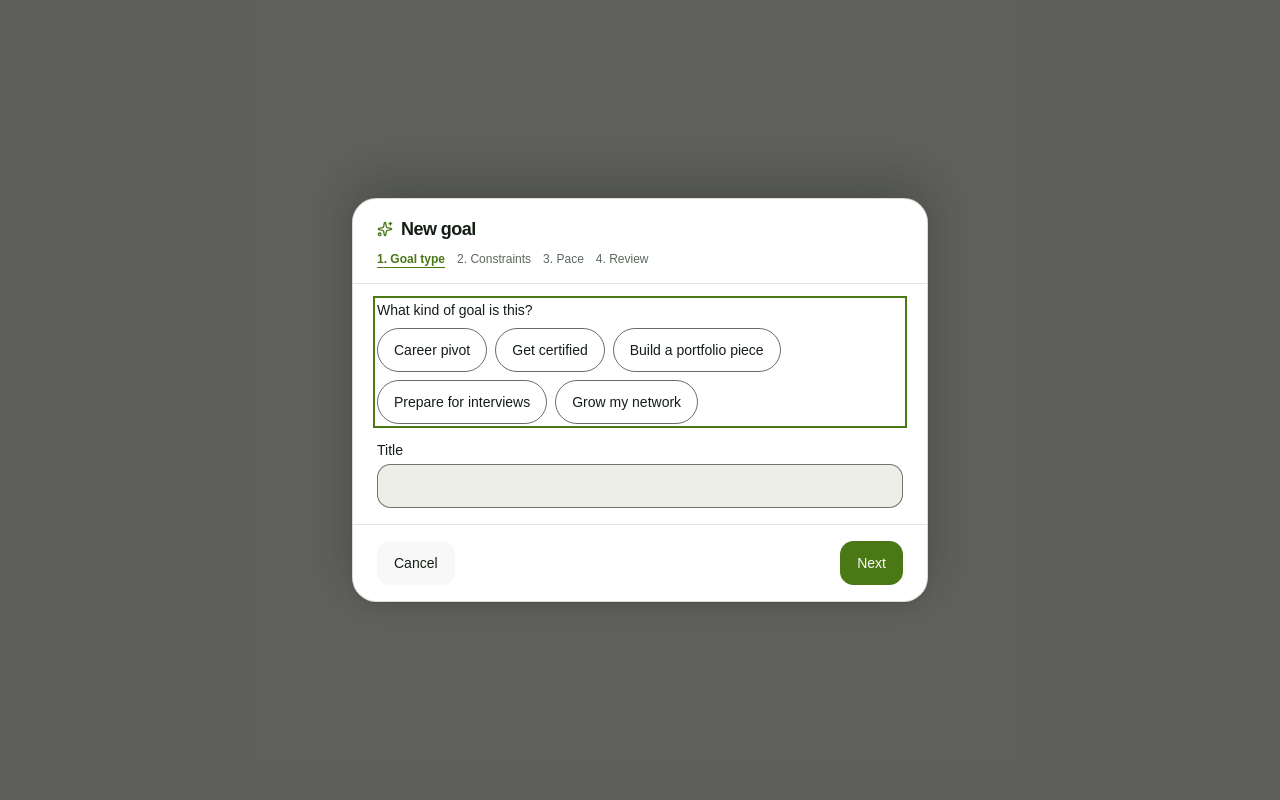
Test case: the steps › steps through constraints and pace to review, marking the current step
Click the button "Get certified". click: (550, 350)
box: [495,328,605,372]
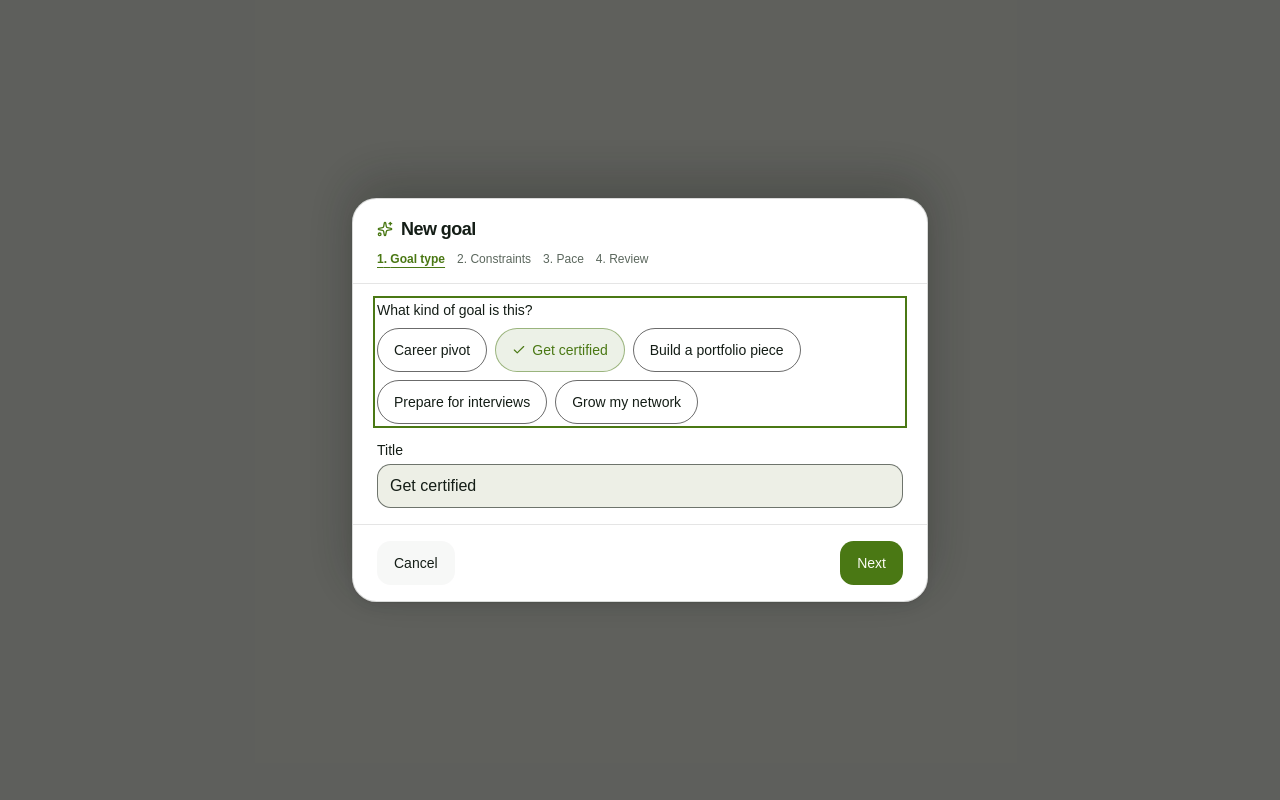
Expected: the list item "1. Goal type" is shown, [377,251,445,267]
Click the button "Next". click: (872, 563)
box: [840,541,903,585]
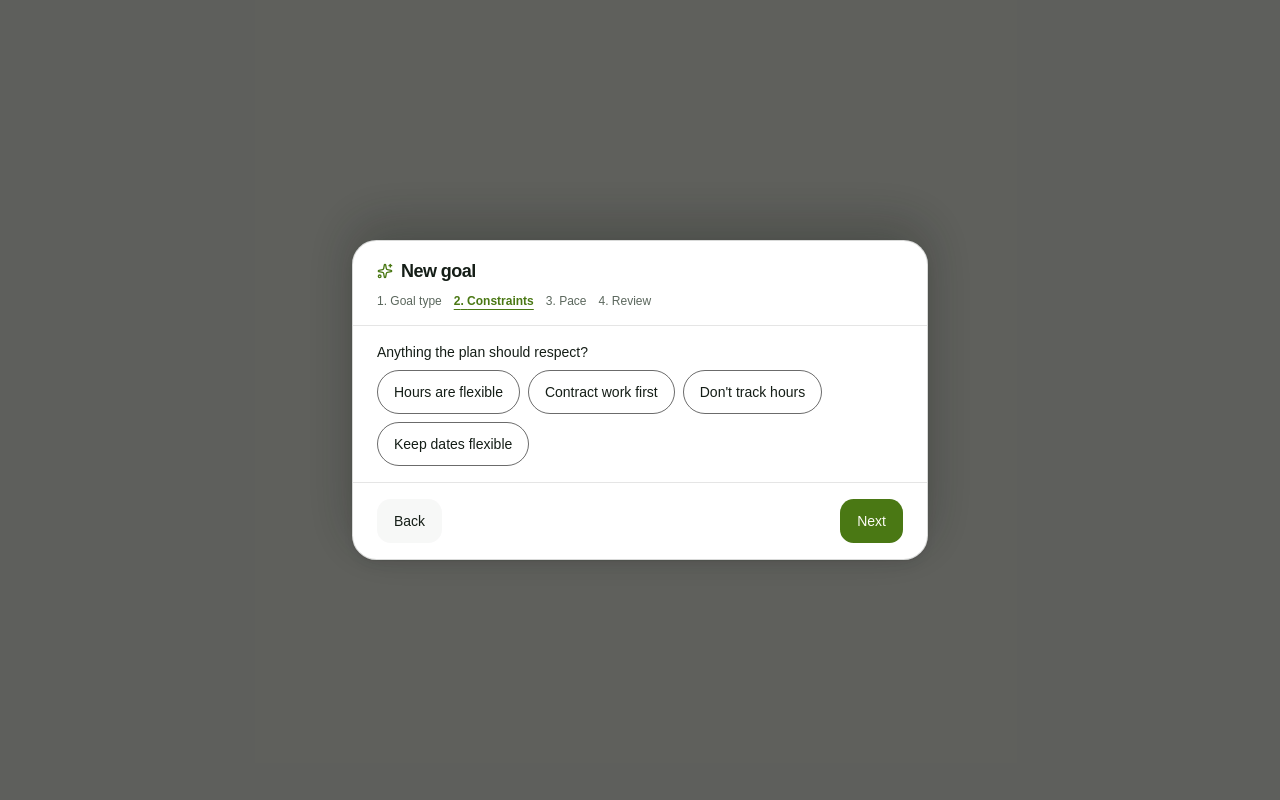
Expected: the list item "2. Constraints" is shown, [454,293,534,309]
Now the text "Anything the plan should respect?" is shown, box [377,342,588,362]
Click the button "Next". click: (872, 521)
box: [840,499,903,543]
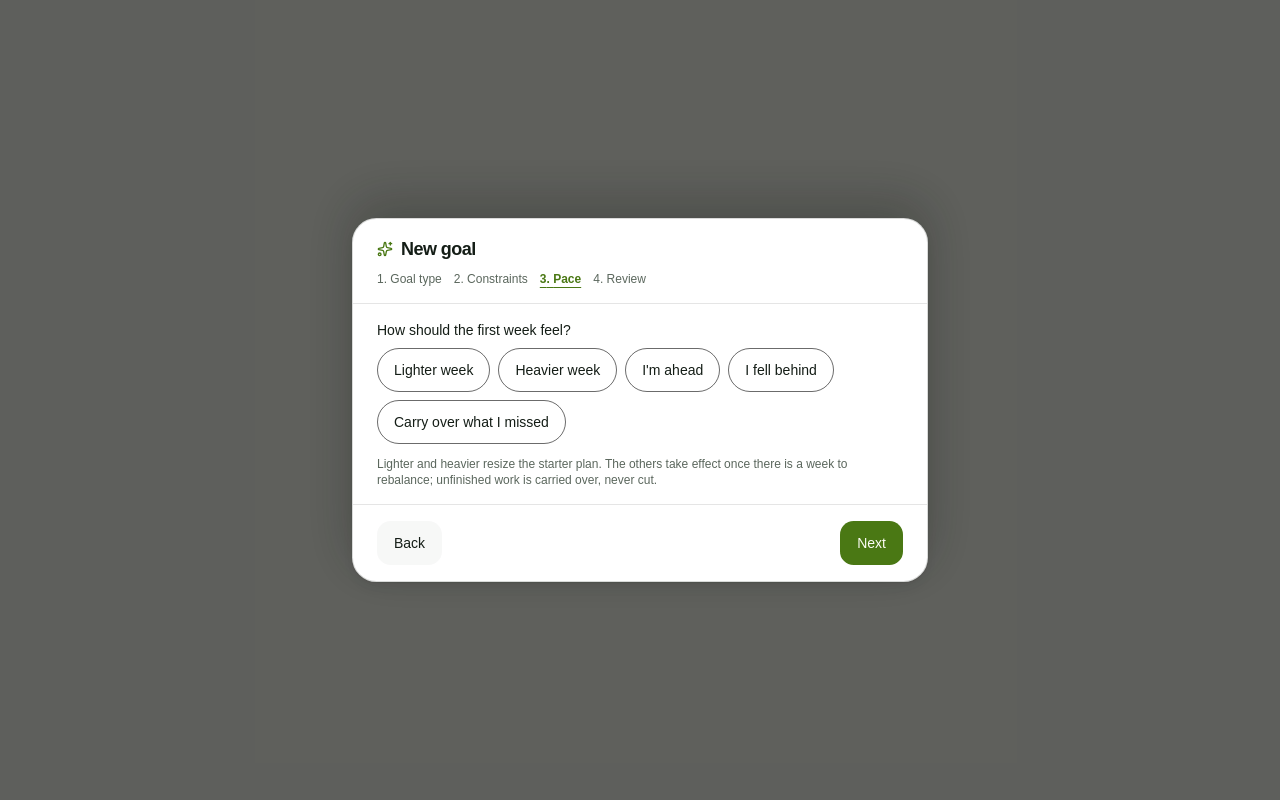
Expected: the list item "3. Pace" is shown, [540,271,581,287]
Now the text "How should the first week feel?" is shown, box [377,320,571,340]
Click the button "Next". click: (872, 543)
box: [840,521,903,565]
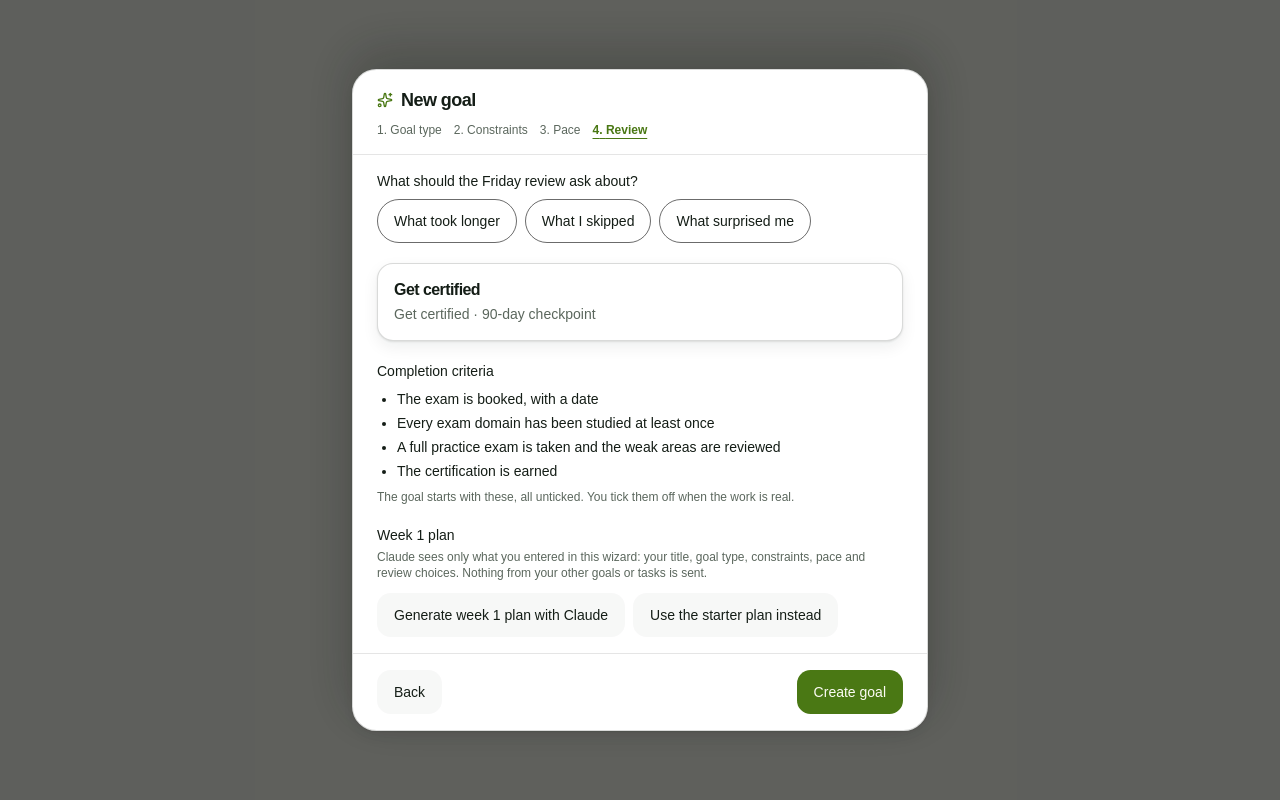
Expected: the list item "4. Review" is shown, [592,122,647,138]
Now the element named "Summary" is shown, box [377,263,903,341]
Now the element "Week 1 plan" is shown, box [377,525,903,637]
